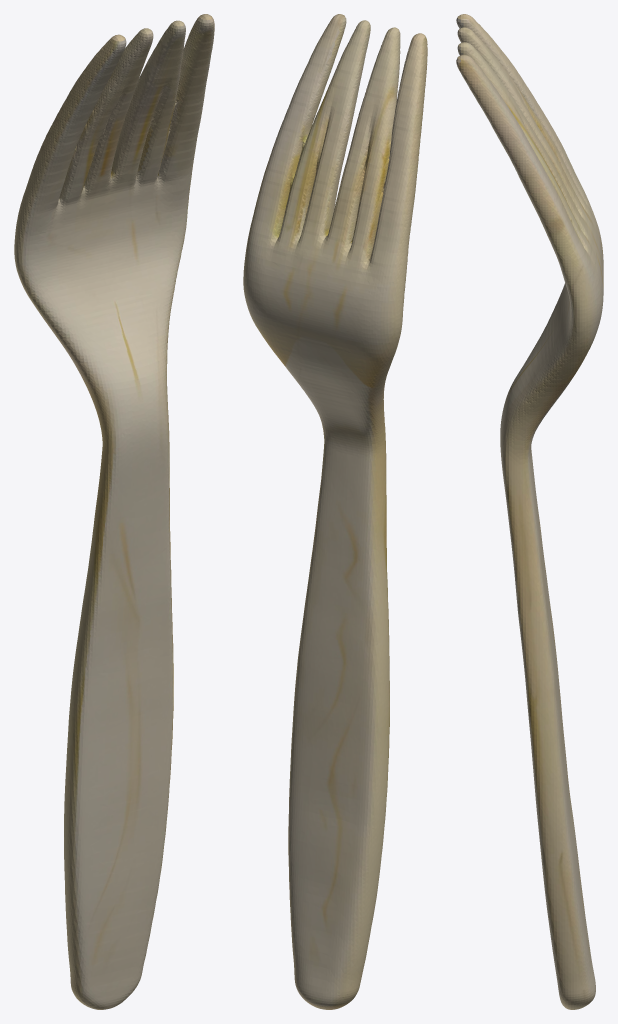
File: white_plastic_fork_phiatn.glb
The picture shows the model from 3 angles, left to right: view 1: azimuth 30°, elevation 25°; view 2: azimuth 150°, elevation 25°; view 3: azimuth 270°, elevation 25°; orthographic projection. The views are drawn at different scales.
Visible parts, largest first — view 1: world; view 2: world; view 3: world.
Boxes of the visible parts, left/top/right/bottom form: world: left=14, top=14, right=214, bottom=1009; world: left=243, top=14, right=427, bottom=1009; world: left=456, top=14, right=603, bottom=1009.
Bounding box in the file's own units: 0.0346 × 0.1989 × 0.0273.
1 material, 1 textured.
